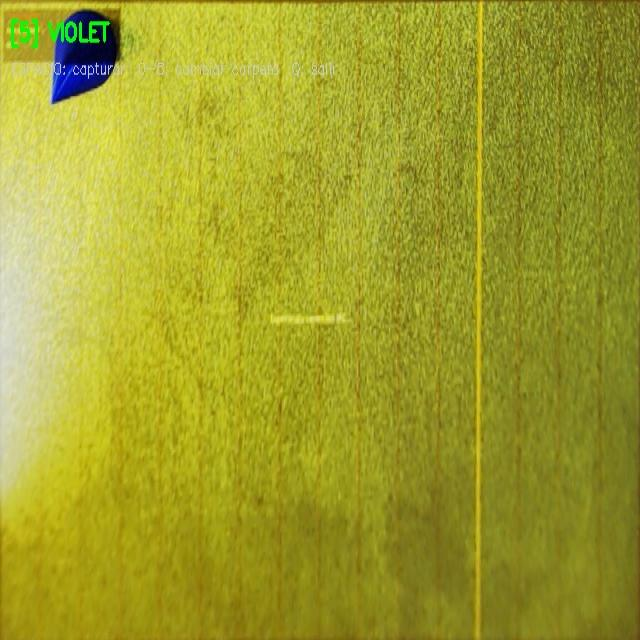violet: (51, 21, 116, 103), (63, 11, 103, 33)
